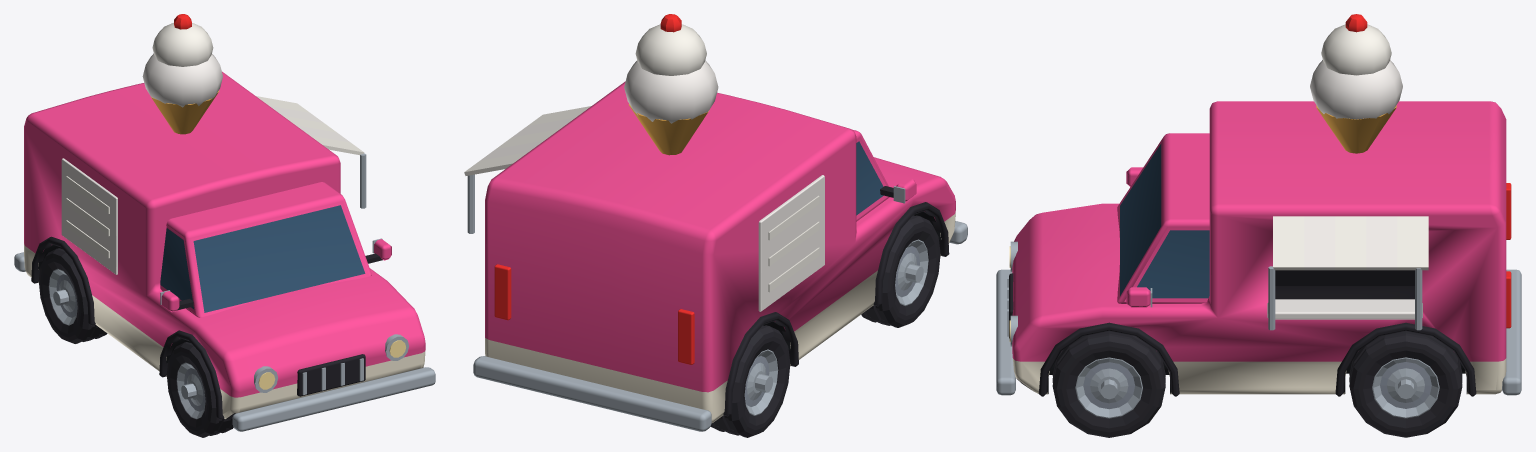
Rendered from vuena-icecream-pink.glb.
3 renders of one model, left to right at view 1: azimuth 30°, elevation 25°; view 2: azimuth 150°, elevation 25°; view 3: azimuth 270°, elevation 25°, orthographic. The views are drawn at different scales.
Parts seen in each view (by area): view 1: icecream_body, wheel_FR, wheel_RR; view 2: icecream_body, wheel_FR, wheel_RR; view 3: icecream_body, wheel_FL, wheel_RL.
Boxes of the visible parts, x1,y1,x2,y2 form: icecream_body: (14, 14, 435, 431); wheel_FR: (166, 342, 233, 437); wheel_RR: (38, 248, 107, 343); icecream_body: (464, 14, 967, 431); wheel_FR: (861, 215, 940, 327); wheel_RR: (710, 325, 790, 437); icecream_body: (996, 14, 1521, 396); wheel_FL: (1052, 331, 1165, 437); wheel_RL: (1349, 331, 1462, 437).
Bounding box in the file's own units: 2.44 × 2.88 × 3.72.
1 material, 1 textured.
